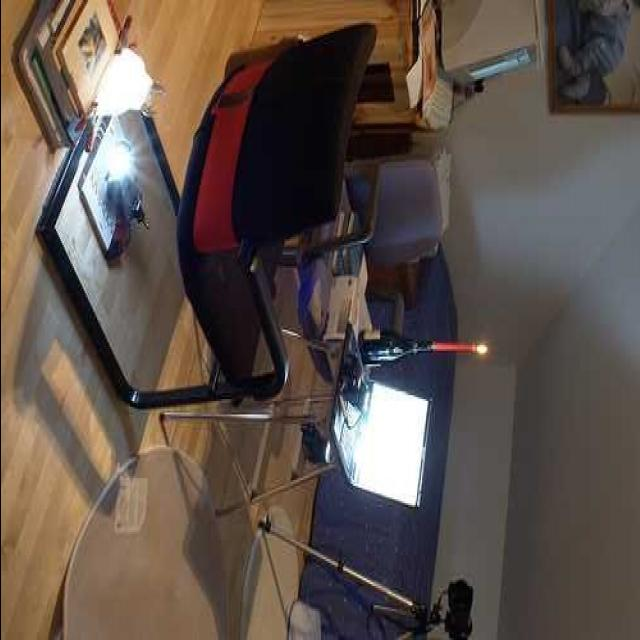laptop: (331, 338, 429, 510)
